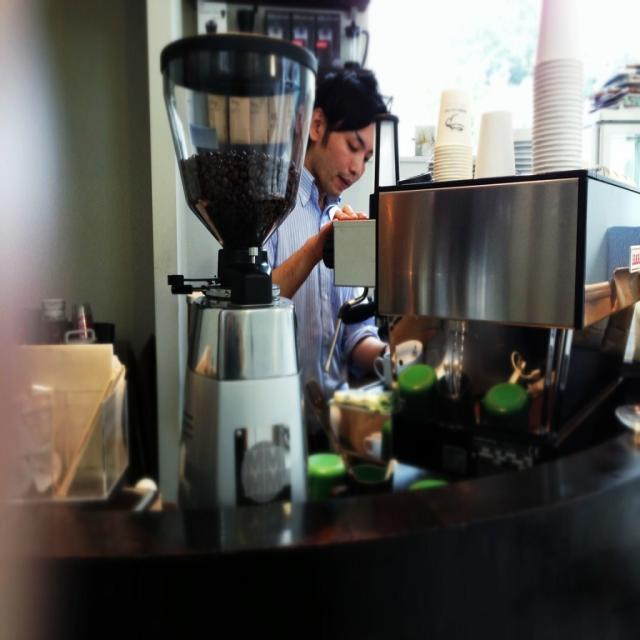Coffee-Machine: (155, 0, 343, 520)
